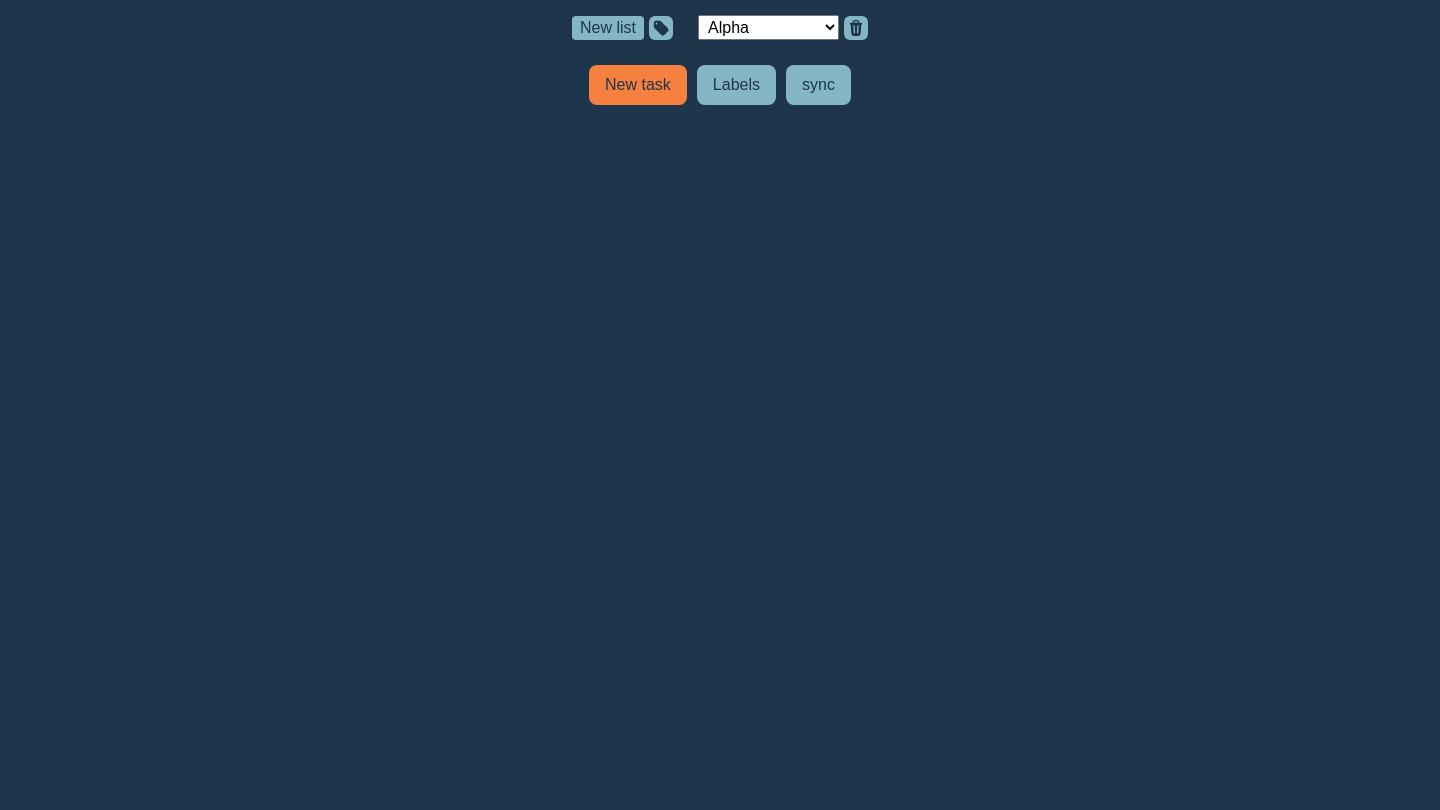
Test: creates a new list and selects it
Expected: the dropdown shows "Alpha", [698, 15, 839, 40]
Click the button "New list": (608, 28) [572, 16, 644, 40]
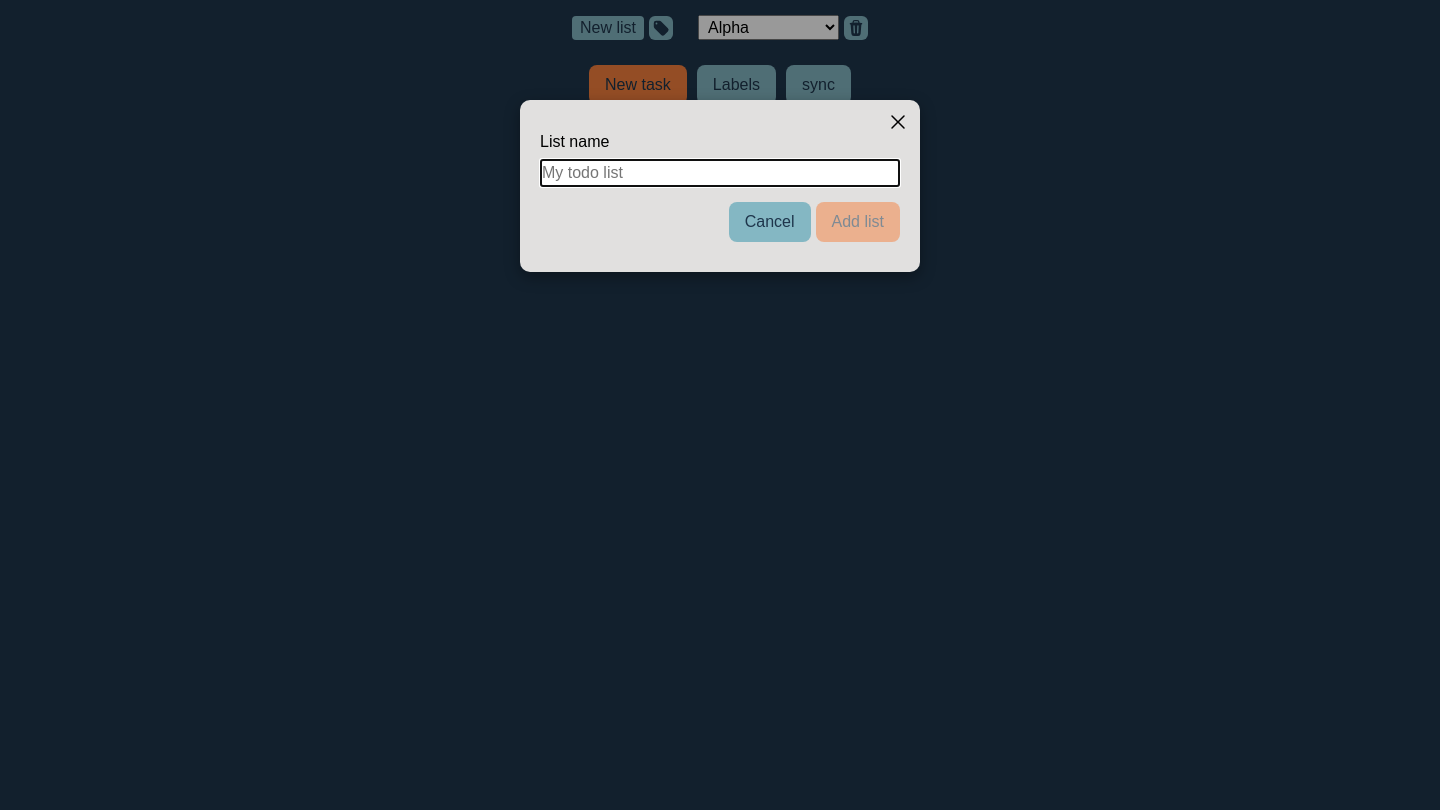
In the field labelled "List name": (720, 173) [540, 159, 900, 187], type "Party"
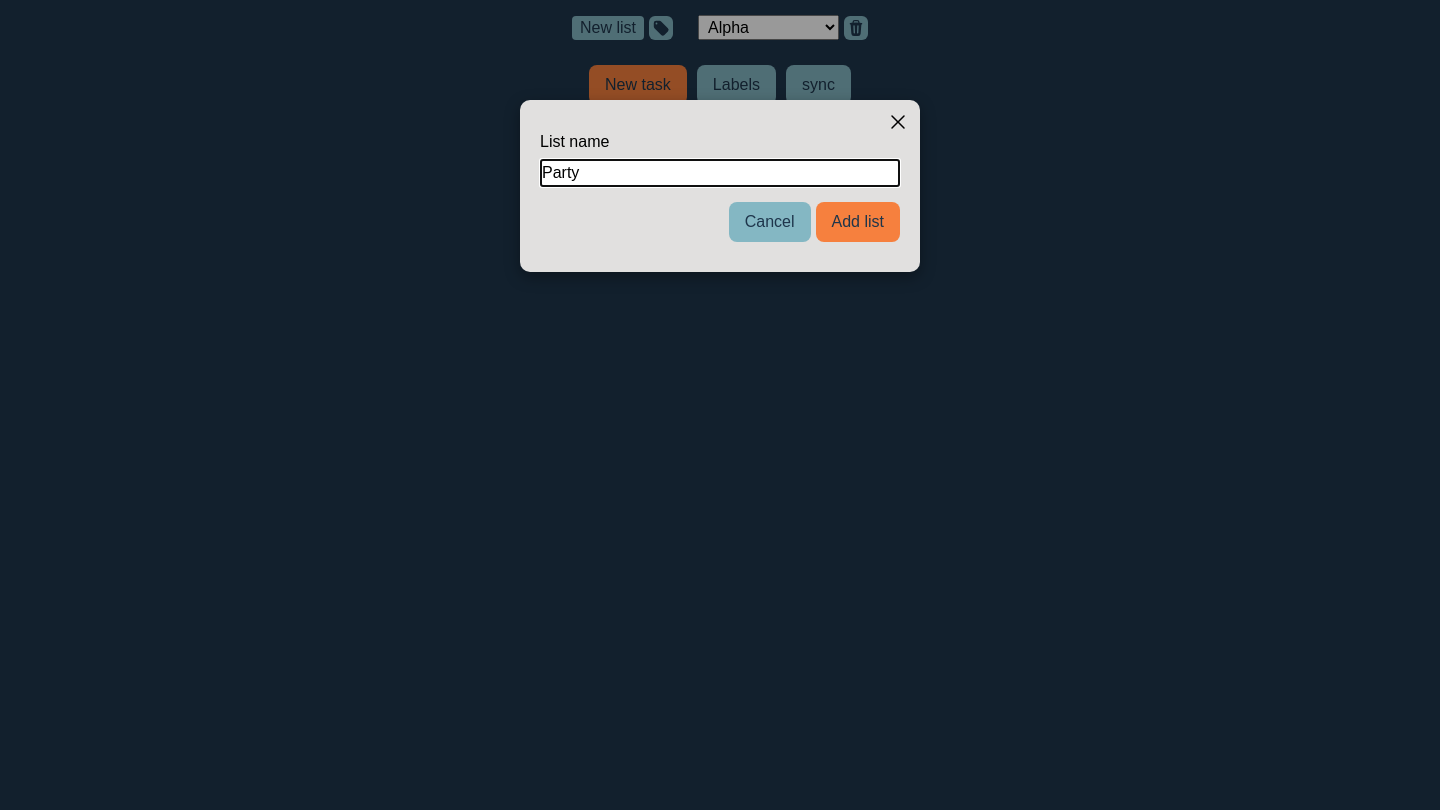
Click the button "Add list": (858, 222) [816, 202, 900, 242]
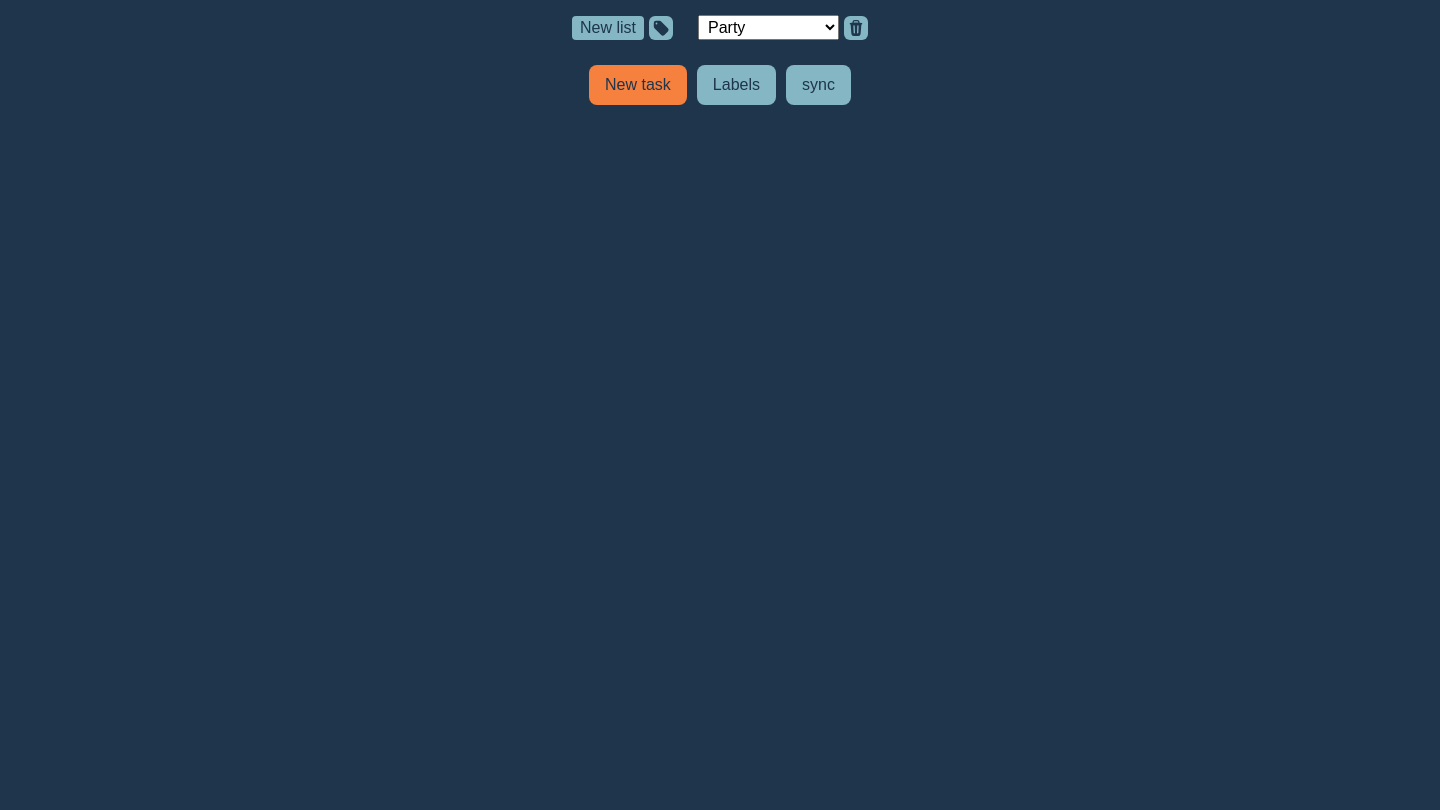
Expected: the dropdown shows "Party", [698, 15, 839, 40]
